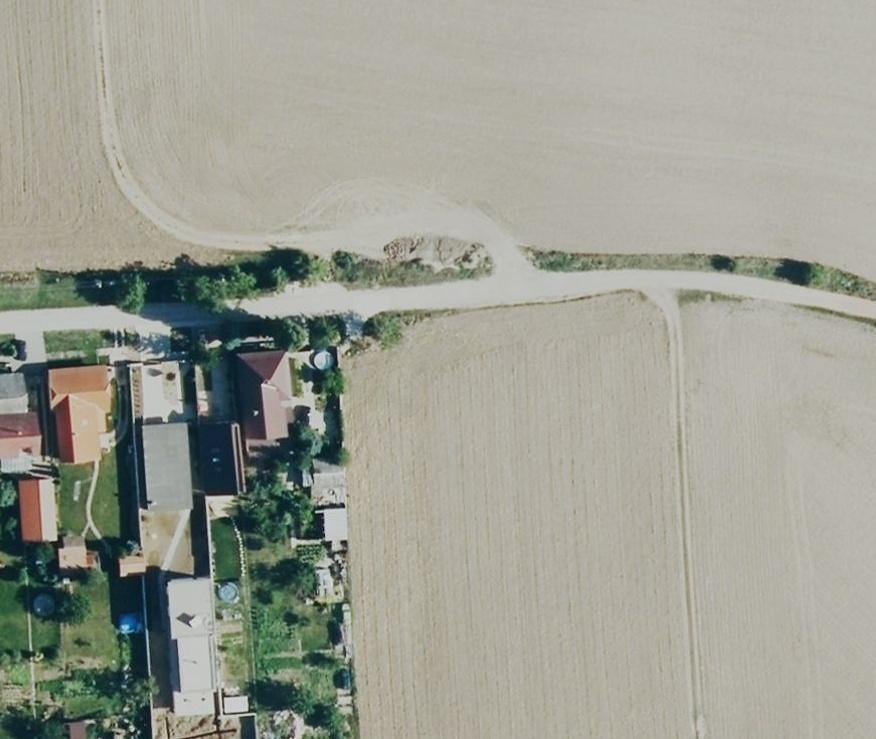field: (0, 3, 876, 736)
